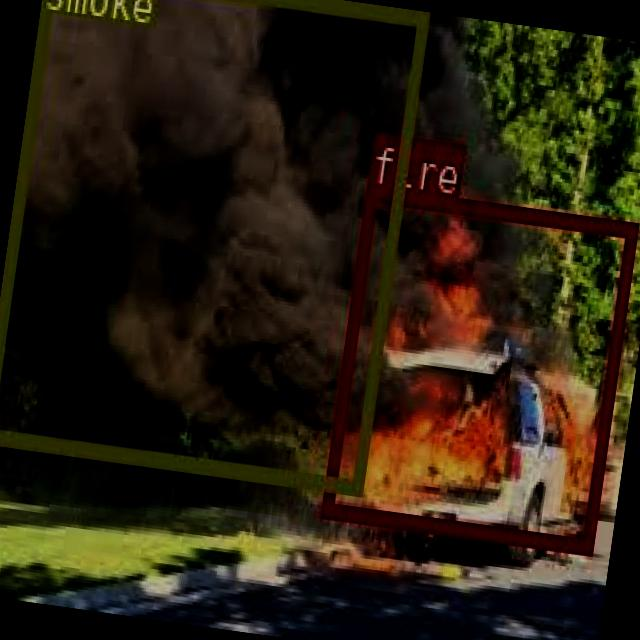fire: (320, 182, 637, 550)
smoke: (0, 0, 427, 490)
